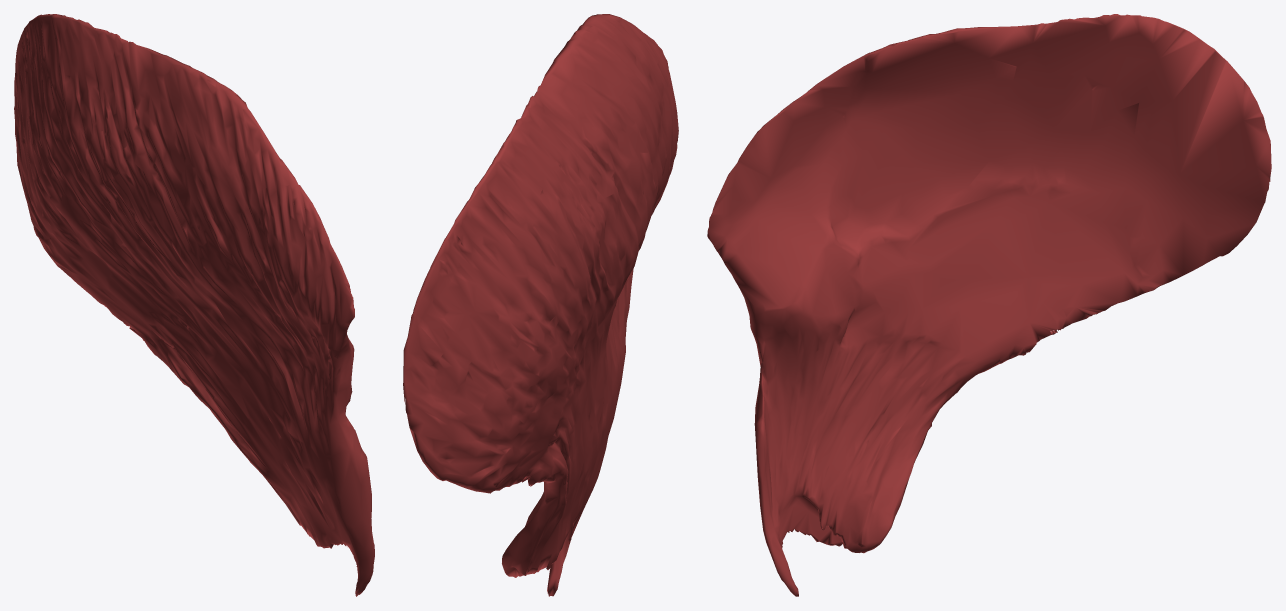
The model's file is temporalis-muscle-r.glb.
3 views of the same model, side by side, from view 1: azimuth 30°, elevation 25°; view 2: azimuth 150°, elevation 25°; view 3: azimuth 270°, elevation 25° (orthographic). The views are drawn at different scales.
Visible parts, largest first — view 1: Temporalis muscle.r; view 2: Temporalis muscle.r; view 3: Temporalis muscle.r.
Part boxes in pixels (x1=…): Temporalis muscle.r: x1=14, y1=14, x2=374, y2=596; Temporalis muscle.r: x1=403, y1=14, x2=678, y2=596; Temporalis muscle.r: x1=707, y1=14, x2=1271, y2=596.
Bounding box in the file's own units: 0.0391 × 0.116 × 0.1139.
